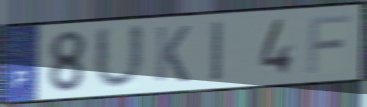4: (258, 17, 297, 79)
8: (45, 29, 89, 94)
F: (305, 12, 353, 76)
I: (210, 19, 225, 85)
K: (153, 24, 193, 85)
U: (93, 22, 147, 93)
